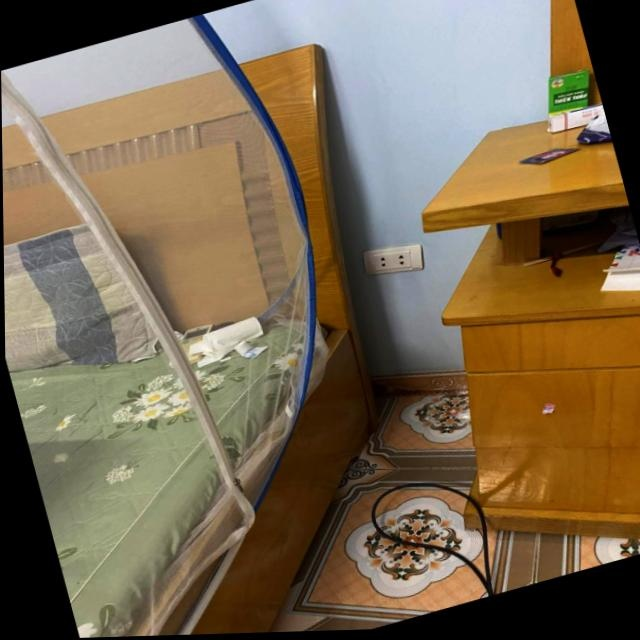outlet: (359, 234, 427, 284)
